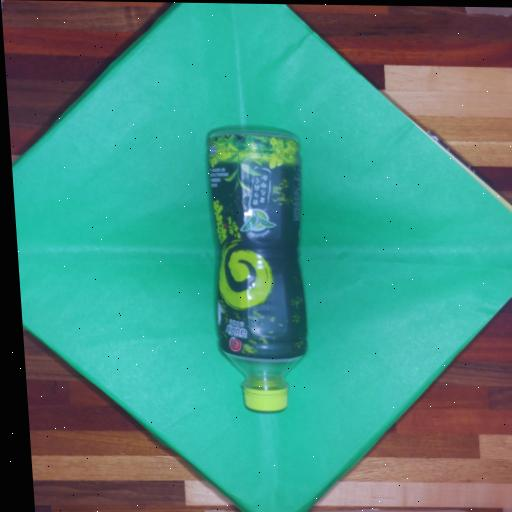bottle: (185, 111, 332, 425)
